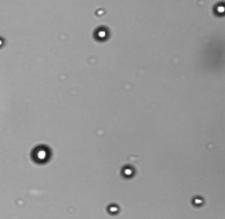Living Cell: (30, 144, 51, 165), (93, 24, 110, 43), (121, 164, 136, 179), (212, 2, 225, 17), (106, 202, 121, 215), (191, 195, 205, 206), (94, 7, 106, 17)
